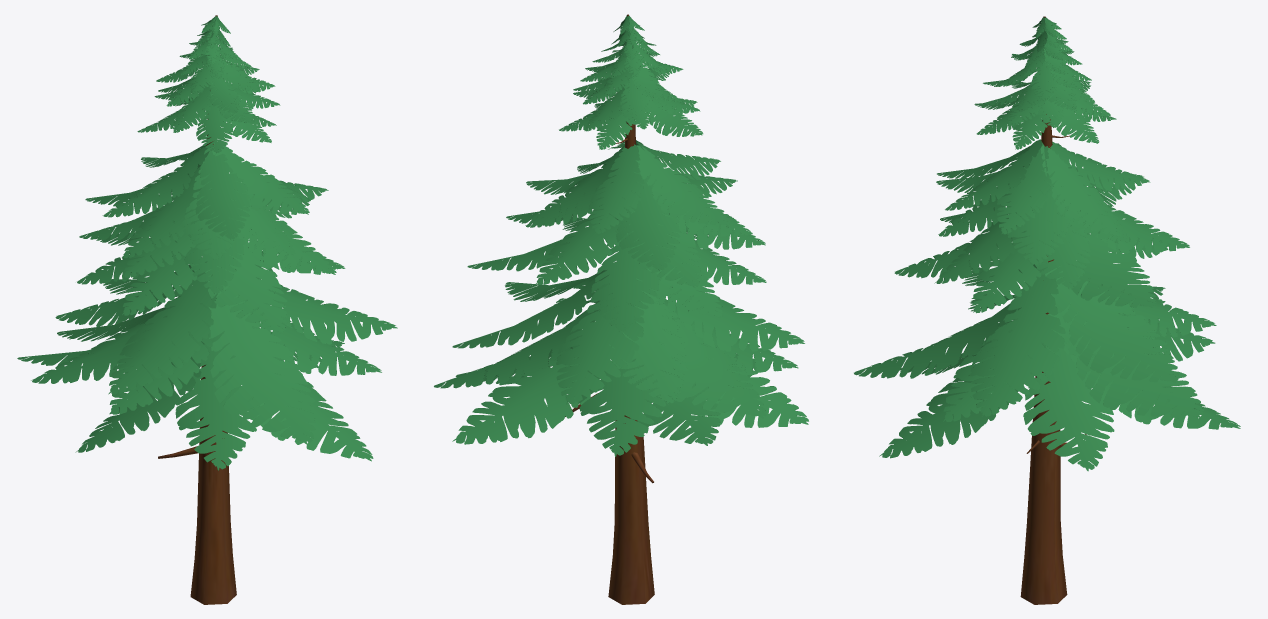
File: st-pine-4.glb
The picture shows the model from 3 angles, left to right: view 1: azimuth 30°, elevation 25°; view 2: azimuth 150°, elevation 25°; view 3: azimuth 270°, elevation 25°; orthographic projection.
Visible parts, largest first — view 1: STPine4; view 2: STPine4; view 3: STPine4.
Part boxes in pixels (x1,y1,x2,y2): STPine4: [17, 15, 397, 604]; STPine4: [434, 14, 808, 604]; STPine4: [854, 16, 1240, 604].
Size of the model in its own units: 7.46 by 12.62 by 7.91.
2 materials, 2 textured.
